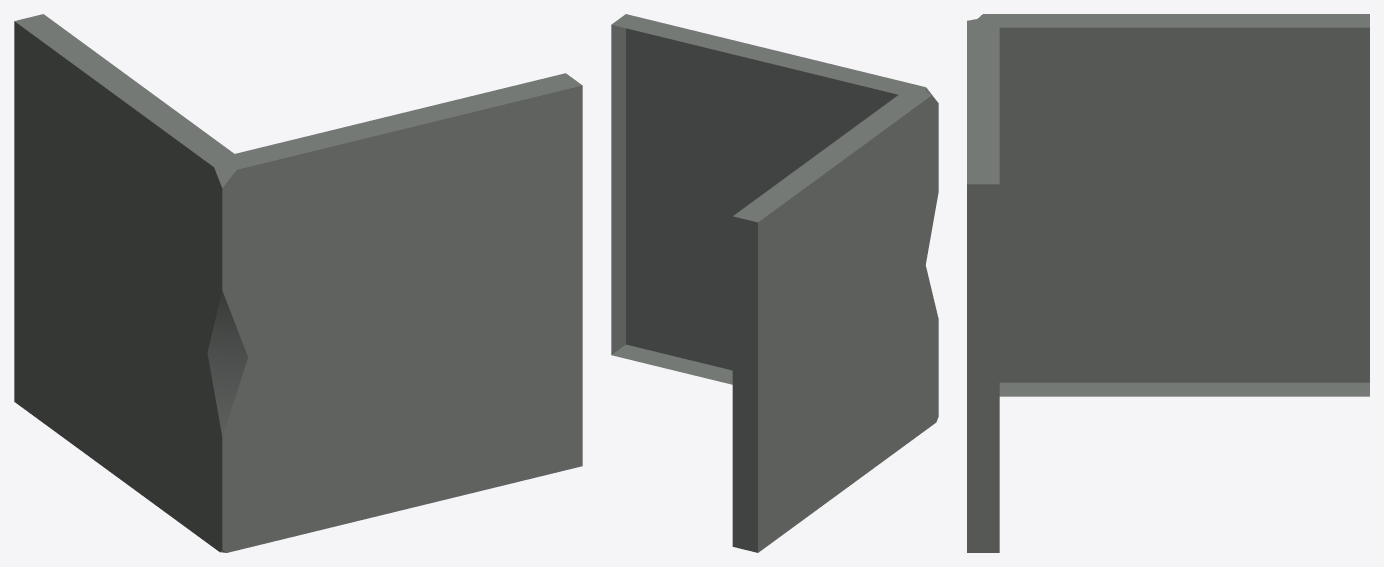
File: SM_Env_Wall_35.fbx
3 renders of one model, left to right at view 1: azimuth 30°, elevation 25°; view 2: azimuth 150°, elevation 25°; view 3: azimuth 270°, elevation 25°, orthographic. The views are drawn at different scales.
Visible parts, largest first — view 1: SM_Env_Wall_35; view 2: SM_Env_Wall_35; view 3: SM_Env_Wall_35.
Boxes of the visible parts, left/top/right/bottom form: SM_Env_Wall_35: left=14, top=14, right=582, bottom=552; SM_Env_Wall_35: left=611, top=14, right=938, bottom=552; SM_Env_Wall_35: left=967, top=14, right=1369, bottom=552.
Size of the model in its own units: 141 by 142 by 141.
Materials: 1 (1 with a texture image).
